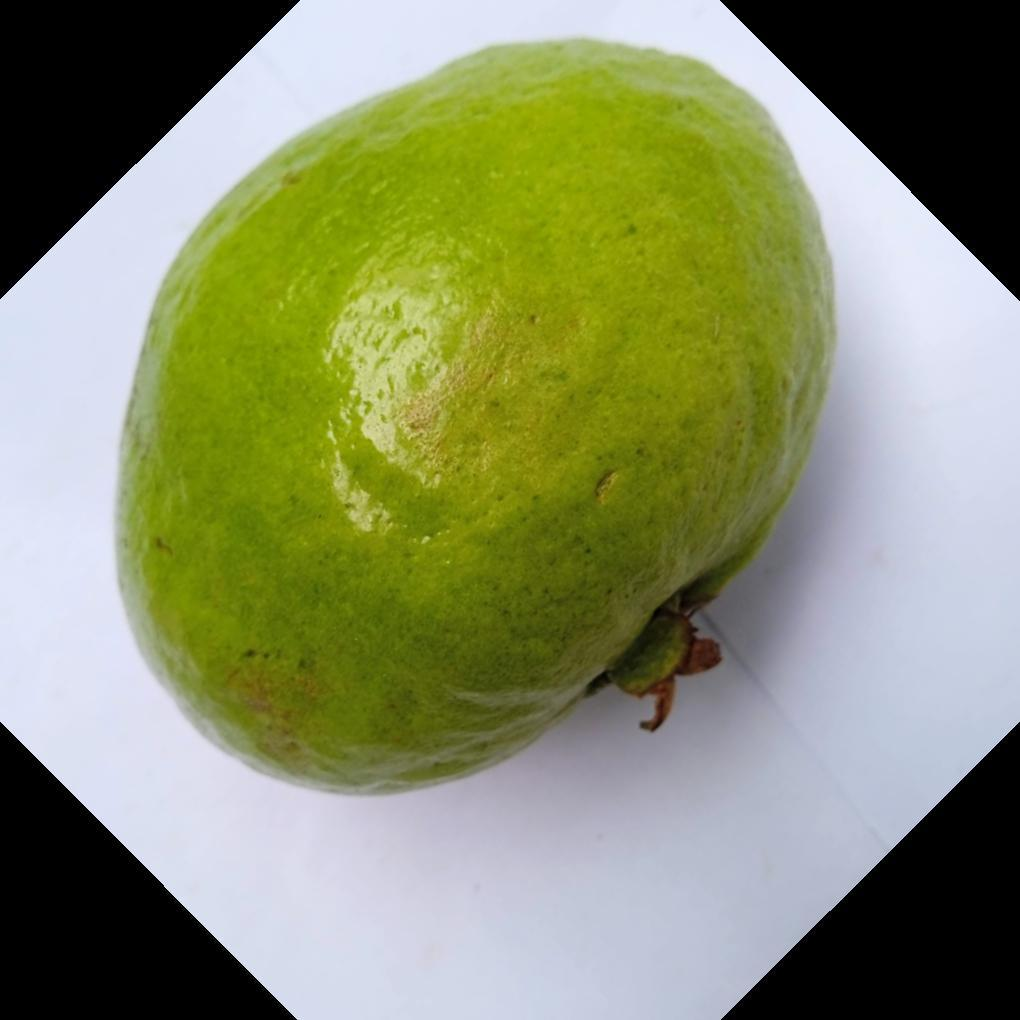FreshGuava: (109, 37, 839, 801)
